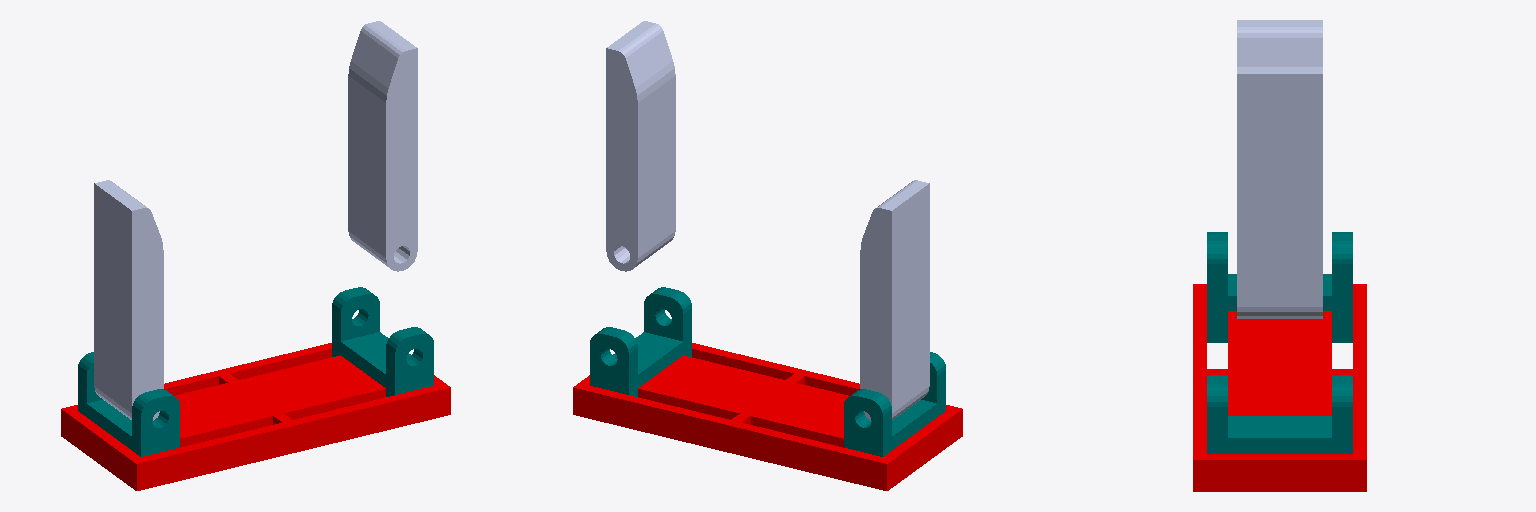
URDF robot description (Toy_Example):
<robot
  name="Toy_Example">
  <link
    name="base">
    <inertial>
      <origin
        xyz="9.1897E-18 0.005 1.4068E-18"
        rpy="0 0 0" />
      <mass
        value="0.04704" />
      <inertia
        ixx="1E-05"
        ixy="1E-08"
        ixz="1E-08"
        iyy="1E-05"
        iyz="1E-08"
        izz="1E-05" />
    </inertial>
    <visual>
      <origin
        xyz="0 0 0"
        rpy="0 0 0" />
      <geometry>
        <mesh
          filename="package://Toy_Example/meshes/base.STL" />
      </geometry>
      <material
        name="">
        <color
          rgba="1 0 0 1" />
      </material>
    </visual>
    <collision>
      <origin
        xyz="0 0 0"
        rpy="0 0 0" />
      <geometry>
        <mesh
          filename="package://Toy_Example/meshes/base.STL" />
      </geometry>
    </collision>
  </link>
  <link
    name="slider_r">
    <inertial>
      <origin
        xyz="6.2549E-18 0 0.0014105"
        rpy="0 0 0" />
      <mass
        value="0.0071412" />
      <inertia
        ixx="1E-06"
        ixy="0"
        ixz="0"
        iyy="1E-06"
        iyz="0"
        izz="1E-06" />
    </inertial>
    <visual>
      <origin
        xyz="0 0 0"
        rpy="0 0 0" />
      <geometry>
        <mesh
          filename="package://Toy_Example/meshes/slider_r.STL" />
      </geometry>
      <material
        name="">
        <color
          rgba="0 0.5 0.5 1" />
      </material>
    </visual>
    <collision>
      <origin
        xyz="0 0 0"
        rpy="0 0 0" />
      <geometry>
        <mesh
          filename="package://Toy_Example/meshes/slider_r.STL" />
      </geometry>
    </collision>
  </link>
  <joint
    name="prismatic_r"
    type="prismatic">
    <origin
      xyz="0.0485 0 0.015"
      rpy="3.1416 -6.123E-17 -1.5708" />
    <parent
      link="base" />
    <child
      link="slider_r" />
    <axis
      xyz="0 1 0" />
    <limit
      lower="0"
      upper="0.039"
      effort="0"
      velocity="0" />
    <calibration
      rising="0"
      falling="0" />
    <dynamics
      damping="0"
      friction="0.2" />
    <safety_controller
      soft_upper="0"
      soft_lower="0"
      k_position="0"
      k_velocity="0" />
  </joint>
  <link
    name="finger_r">
    <inertial>
      <origin
        xyz="4.7806E-18 0.00019138 -0.0003046"
        rpy="0 0 0" />
      <mass
        value="0.021819" />
      <inertia
        ixx="5E-06"
        ixy="0"
        ixz="0"
        iyy="5E-06"
        iyz="0"
        izz="5E-06" />
    </inertial>
    <visual>
      <origin
        xyz="0 0 0"
        rpy="0 0 0" />
      <geometry>
        <mesh
          filename="package://Toy_Example/meshes/finger_r.STL" />
      </geometry>
      <material
        name="">
        <color
          rgba="0.79216 0.81961 0.93333 1" />
      </material>
    </visual>
    <collision>
      <origin
        xyz="0 0 0"
        rpy="0 0 0" />
      <geometry>
        <mesh
          filename="package://Toy_Example/meshes/finger_r.STL" />
      </geometry>
    </collision>
  </link>
  <joint
    name="revolute_r"
    type="revolute">
    <origin
      xyz="0 0 -0.041"
      rpy="0 0 -3.1416" />
    <parent
      link="slider_r" />
    <child
      link="finger_r" />
    <axis
      xyz="-1 0 0" />
    <limit
      lower="0"
      upper="0.7"
      effort="0"
      velocity="0" />
    <calibration
      rising="0"
      falling="0" />
    <dynamics
      damping="0.1"
      friction="0" />
    <safety_controller
      soft_upper="0"
      soft_lower="0"
      k_position="0"
      k_velocity="0" />
  </joint>
  <link
    name="slider_l">
    <inertial>
      <origin
        xyz="1.1051E-17 0 0.0014105"
        rpy="0 0 0" />
      <mass
        value="0.0071412" />
      <inertia
        ixx="1E-06"
        ixy="0"
        ixz="0"
        iyy="1E-06"
        iyz="0"
        izz="1E-06" />
    </inertial>
    <visual>
      <origin
        xyz="0 0 0"
        rpy="0 0 0" />
      <geometry>
        <mesh
          filename="package://Toy_Example/meshes/slider_l.STL" />
      </geometry>
      <material
        name="">
        <color
          rgba="0 0.5 0.5 1" />
      </material>
    </visual>
    <collision>
      <origin
        xyz="0 0 0"
        rpy="0 0 0" />
      <geometry>
        <mesh
          filename="package://Toy_Example/meshes/slider_l.STL" />
      </geometry>
    </collision>
  </link>
  <joint
    name="prismatic_l"
    type="prismatic">
    <origin
      xyz="-0.0485 0 0.015"
      rpy="3.1416 6.123E-17 1.5708" />
    <parent
      link="base" />
    <child
      link="slider_l" />
    <axis
      xyz="0 1 0" />
    <limit
      lower="0"
      upper="0.039"
      effort="0"
      velocity="0" />
    <calibration
      rising="0"
      falling="0" />
    <dynamics
      damping="0"
      friction="0.2" />
    <safety_controller
      soft_upper="0"
      soft_lower="0"
      k_position="0"
      k_velocity="0" />
  </joint>
  <link
    name="finger_l">
    <inertial>
      <origin
        xyz="-6.8704E-18 0.00019138 -0.034305"
        rpy="0 0 0" />
      <mass
        value="0.021819" />
      <inertia
        ixx="5E-06"
        ixy="0"
        ixz="0"
        iyy="5E-06"
        iyz="0"
        izz="5E-06" />
    </inertial>
    <visual>
      <origin
        xyz="0 0 0"
        rpy="0 0 0" />
      <geometry>
        <mesh
          filename="package://Toy_Example/meshes/finger_l.STL" />
      </geometry>
      <material
        name="">
        <color
          rgba="0.79216 0.81961 0.93333 1" />
      </material>
    </visual>
    <collision>
      <origin
        xyz="0 0 0"
        rpy="0 0 0" />
      <geometry>
        <mesh
          filename="package://Toy_Example/meshes/finger_l.STL" />
      </geometry>
    </collision>
  </link>
  <joint
    name="revolute_l"
    type="revolute">
    <origin
      xyz="0 0 -0.007"
      rpy="0 0 3.1416" />
    <parent
      link="slider_l" />
    <child
      link="finger_l" />
    <axis
      xyz="-1 0 0" />
    <limit
      lower="0"
      upper="0.7"
      effort="0"
      velocity="0" />
    <calibration
      rising="0"
      falling="0" />
    <dynamics
      damping="0.1"
      friction="0" />
    <safety_controller
      soft_upper="0"
      soft_lower="0"
      k_position="0"
      k_velocity="0" />
  </joint>
</robot>

--- Facts derived from the render (not from the file) ---
The picture shows the robot from 3 angles, left to right: view 1: azimuth 30°, elevation 25°; view 2: azimuth 150°, elevation 25°; view 3: azimuth 270°, elevation 25°; orthographic projection.
Robot: Toy_Example — 5 links, 4 joints (2 revolute, 2 prismatic); root link base; default pose: all joints at 0.
Links seen in each view (by area): view 1: base, finger_r, finger_l, slider_r, slider_l; view 2: base, finger_r, finger_l, slider_r, slider_l; view 3: base, finger_r, slider_r, slider_l, finger_l.
Boxes of the visible links, x1,y1,x2,y2 form: base: (61,343,450,490); finger_r: (348,21,417,271); finger_l: (94,180,163,420); slider_r: (332,287,433,396); slider_l: (78,352,179,456); base: (573,343,962,490); finger_r: (606,21,675,271); finger_l: (860,180,929,420); slider_r: (590,287,691,396); slider_l: (844,352,945,456); base: (1193,284,1366,491); finger_r: (1237,66,1322,318); slider_r: (1207,375,1352,453); slider_l: (1207,232,1352,342); finger_l: (1237,20,1322,65).
Size in the robot's own frame: 0.12 by 0.05 by 0.13 metres.
5 mesh visuals loaded from 5 distinct referenced files (5 binary STL).